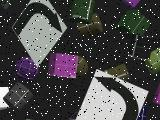Left: (75, 69, 148, 120)
Right: (12, 0, 67, 68)
